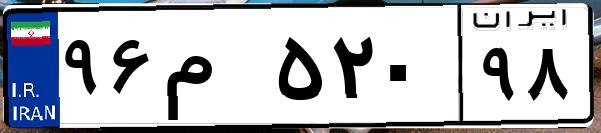0: (385, 28, 445, 110)
2: (330, 28, 385, 110)
5: (270, 28, 330, 110)
6: (110, 28, 158, 98)
8: (525, 38, 570, 115)
9: (57, 26, 110, 100), (475, 38, 525, 113)
م: (158, 20, 270, 120)
